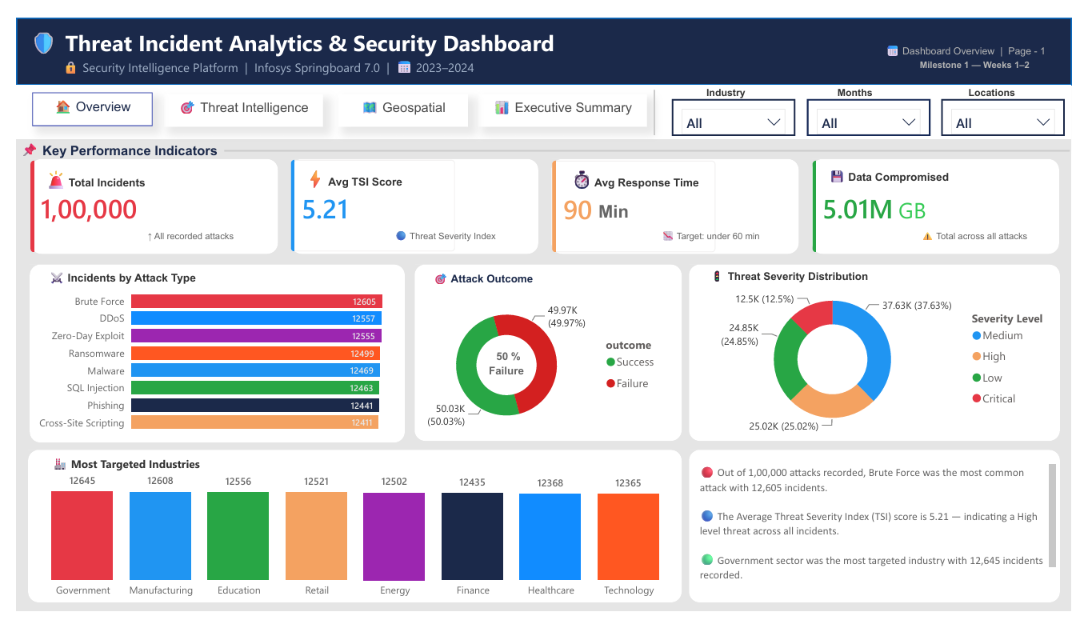

This screenshot's page, from the dashboard's own definition file:
{"tool":"powerbi","page":{"name":"Overview","canvas":[1280,720],"ordinal":0},"visuals":[{"type":"shape","box":[815.6,299.2,450,213.5],"z":0},{"type":"shape","box":[14.5,523.6,792.6,185.8],"z":1000},{"type":"shape","box":[15.7,299.2,454.8,216],"z":2000},{"type":"shape","box":[16.9,171.3,300.4,114.6],"z":3000},{"type":"shape","box":[0,0,1280,81.2],"z":4000},{"type":"textbox","box":[10,6.2,690,55],"z":5000},{"type":"textbox","box":[51.2,43.8,681.2,37.5],"z":6000},{"type":"shape","box":[0,80.8,1280,66],"z":7000},{"type":"textbox","box":[18.8,90,146,41],"z":8000},{"type":"textbox","box":[178.6,91.7,193,39.8],"z":9000},{"type":"textbox","box":[389.7,91.7,158,39.8],"z":10000},{"type":"textbox","box":[559.8,91.7,205.1,39.8],"z":11000},{"type":"textbox","box":[0,143.6,273.9,37.4],"z":12000},{"type":"shape","box":[252.1,154.4,1025.5,13.3],"z":13000},{"type":"cardVisual","fields":{"Data":["CountNonNull(fact_incident.incident_key)"]},"box":[0,156.2,232.5,145],"z":14000},{"type":"shape","box":[332.5,171.2,300,115],"z":15000},{"type":"shape","box":[648.8,171.2,300,115],"z":16000},{"type":"shape","box":[965,171.2,300,115],"z":17000},{"type":"cardVisual","fields":{"Data":["Avg(fact_incident.TSI_score)"]},"box":[316.2,155,232.5,145],"z":18000},{"type":"cardVisual","fields":{"Data":["Avg(dim_response.response_time_min)"]},"box":[632.5,156.2,232.5,145],"z":19000},{"type":"cardVisual","fields":{"Data":["Sum(fact_incident.data_compromised_GB)"]},"box":[948.8,156.2,232.5,145],"z":20000},{"type":"shape","box":[482.6,299.2,324.5,213.5],"z":21000},{"type":"clusteredBarChart","fields":{"Category":["dim_threat.attack_type"],"Y":["CountNonNull(fact_incident.incident_key)"]},"box":[14.5,313.7,468.1,199.1],"z":22000},{"type":"textbox","box":[35,301.2,205,31.2],"z":23000},{"type":"textbox","box":[27.5,175,177.5,43.8],"z":24000},{"type":"textbox","box":[153.8,248.8,147.5,33.8],"z":25000},{"type":"textbox","box":[342.6,173.7,156.8,43.4],"z":26000},{"type":"textbox","box":[453.8,248.8,147.5,33.8],"z":27000},{"type":"textbox","box":[666,174.9,185.8,43.4],"z":28000},{"type":"textbox","box":[980.8,177.3,185.8,43.4],"z":29000},{"type":"textbox","box":[778.2,248.5,147.2,33.8],"z":30000},{"type":"textbox","box":[1093,248.5,147.5,33.8],"z":31000},{"type":"clusteredColumnChart","fields":{"Category":["dim_industry.industry"],"Y":["CountNonNull(fact_incident.incident_key)"]},"box":[0,536.9,824,174.9],"z":32000},{"type":"textbox","box":[38.6,527.2,205,31.2],"z":33000},{"type":"textbox","box":[701.2,217.5,70,50],"z":34000},{"type":"donutChart","fields":{"Category":["dim_response.outcome"],"Y":["CountNonNull(fact_incident.incident_key)"]},"box":[469.3,333,325.7,176.1],"z":35000},{"type":"textbox","box":[500.7,301.6,205.1,31.4],"z":36000},{"type":"textbox","box":[576.7,395.7,57.9,37.4],"z":37000},{"type":"textbox","box":[568.2,412.6,73.6,30.2],"z":38000},{"type":"textbox","box":[1049.6,25.3,231.6,27.7],"z":39000},{"type":"donutChart","fields":{"Category":["dim_threat.severity_category"],"Y":["CountNonNull(fact_incident.incident_key)"]},"box":[815.6,316.1,450,195.4],"z":40000},{"type":"textbox","box":[836.1,299.2,237.7,31.4],"z":41000},{"type":"shape","box":[815.6,523.6,450,185.8],"z":42000},{"type":"textbox","box":[824,536.9,441.6,166.5],"z":43000},{"type":"textbox","box":[1090.6,41,152,27.7],"z":44000},{"type":"shape","box":[766.1,86.9,15.7,55.5],"z":45000},{"type":"slicer","fields":{"Values":["dim_time.month"]},"box":[958.5,97.7,150,45],"z":46000},{"type":"slicer","fields":{"Values":["dim_location.location"]},"box":[1122,97.7,150,45],"z":47000},{"type":"slicer","fields":{"Values":["dim_industry.industry"]},"box":[795,97.7,150,45],"z":48000},{"type":"textbox","box":[832.4,74.8,79.6,29],"z":49000},{"type":"textbox","box":[991.1,74.8,79.6,29],"z":50000},{"type":"textbox","box":[1149.7,74.8,79.6,29],"z":51000},{"type":"textbox","box":[1065,208.8,70,50],"z":52000}]}

Visuals, with their boxes in screenshot pixels (x1, y1, x2, y2), scaled from the page's 1280x720 canvas onto the 1090x630 screenshot:
shape: 695:262:1078:449
shape: 12:458:687:621
shape: 13:262:401:451
shape: 14:150:270:250
shape: 0:0:1089:71
textbox: 9:5:596:54
textbox: 44:38:624:71
shape: 0:71:1089:128
textbox: 16:79:140:115
textbox: 152:80:316:115
textbox: 332:80:466:115
textbox: 477:80:651:115
textbox: 0:126:233:158
shape: 215:135:1088:147
cardVisual - CountNonNull(fact_incident.incident_key): 0:137:198:264
shape: 283:150:539:250
shape: 552:150:808:250
shape: 822:150:1077:250
cardVisual - Avg(fact_incident.TSI_score): 269:136:467:262
cardVisual - Avg(dim_response.response_time_min): 539:137:737:264
cardVisual - Sum(fact_incident.data_compromised_GB): 808:137:1006:264
shape: 411:262:687:449
clusteredBarChart - dim_threat.attack_type x CountNonNull(fact_incident.incident_key): 12:274:411:449
textbox: 30:264:204:291
textbox: 23:153:175:191
textbox: 131:218:257:247
textbox: 292:152:425:190
textbox: 386:218:512:247
textbox: 567:153:725:191
textbox: 835:155:993:193
textbox: 663:217:788:247
textbox: 931:217:1056:247
clusteredColumnChart - dim_industry.industry x CountNonNull(fact_incident.incident_key): 0:470:702:623
textbox: 33:461:207:489
textbox: 597:190:657:234
donutChart - dim_response.outcome x CountNonNull(fact_incident.incident_key): 400:291:677:445
textbox: 426:264:601:291
textbox: 491:346:540:379
textbox: 484:361:547:387
textbox: 894:22:1089:46
donutChart - dim_threat.severity_category x CountNonNull(fact_incident.incident_key): 695:277:1078:448
textbox: 712:262:914:289
shape: 695:458:1078:621
textbox: 702:470:1078:615
textbox: 929:36:1058:60
shape: 652:76:666:125
slicer - dim_time.month: 816:85:944:125
slicer - dim_location.location: 955:85:1083:125
slicer - dim_industry.industry: 677:85:805:125
textbox: 709:65:777:91
textbox: 844:65:912:91
textbox: 979:65:1047:91
textbox: 907:183:967:226
